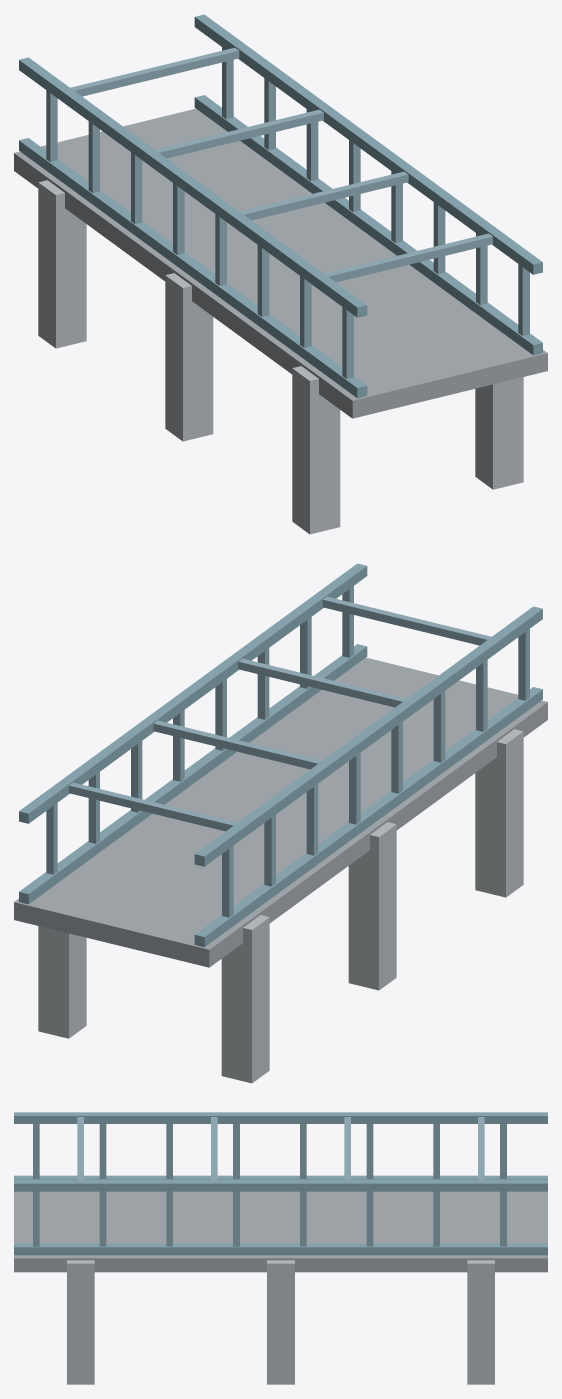
File: AURORA_bridge.glb
3 renders of one model, top to bottom at view 1: azimuth 30°, elevation 25°; view 2: azimuth 150°, elevation 25°; view 3: azimuth 270°, elevation 25°, orthographic. The views are drawn at different scales.
Visible parts, largest first — view 1: RootNode; view 2: RootNode; view 3: RootNode.
Boxes of the visible parts, x1,y1,x2,y2 form: RootNode: (14, 14, 547, 534); RootNode: (14, 563, 547, 1083); RootNode: (14, 1112, 547, 1384).
Size of the model in its own units: 17.5 by 19.4 by 48.
